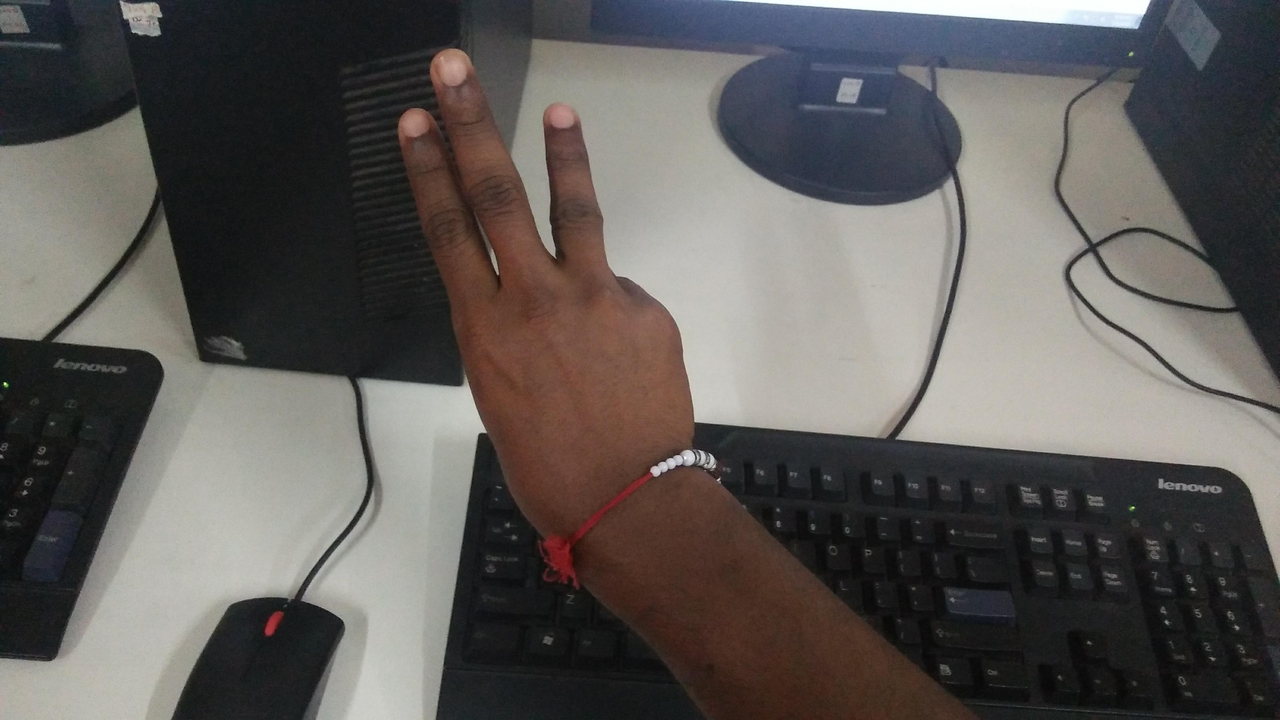fingertip: (420, 40, 480, 98), (532, 90, 590, 138), (382, 98, 432, 146)
